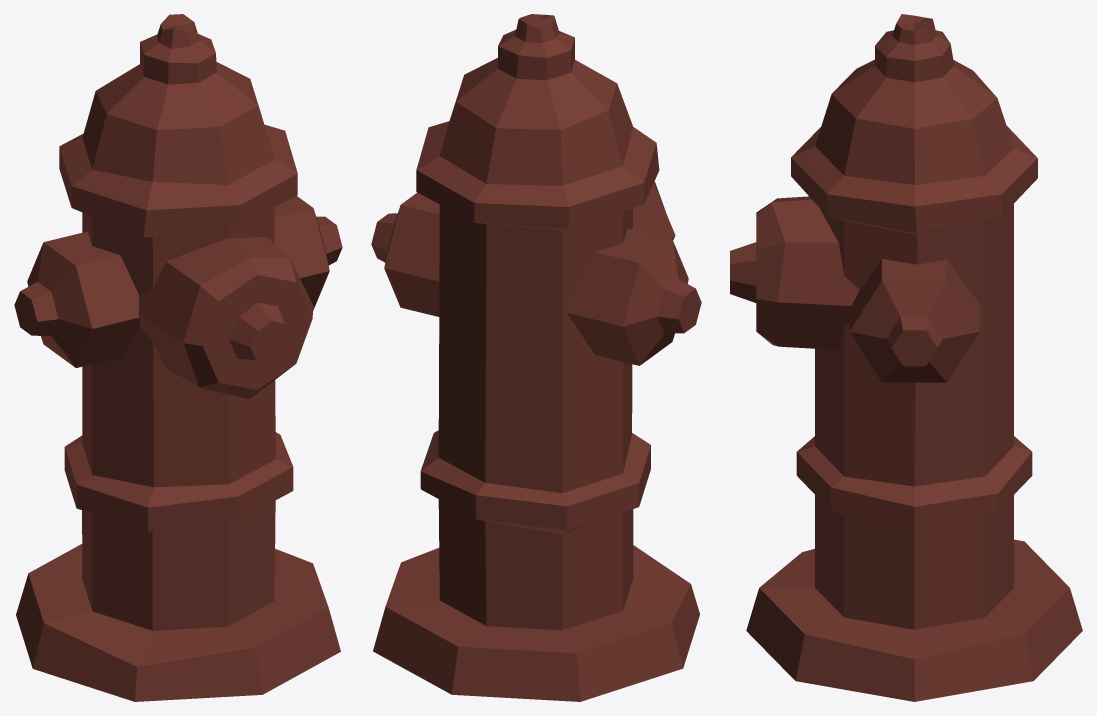
Rendered from Hydrant_01.fbx.
3 renders of one model, left to right at view 1: azimuth 30°, elevation 25°; view 2: azimuth 150°, elevation 25°; view 3: azimuth 270°, elevation 25°, orthographic.
Parts seen in each view (by area): view 1: Hydrant_01; view 2: Hydrant_01; view 3: Hydrant_01.
Boxes of the visible parts, x1,y1,x2,y2 form: Hydrant_01: (14,14,342,701); Hydrant_01: (371,14,701,701); Hydrant_01: (730,14,1082,701).
Bounding box in the file's own units: 0.4718 × 0.9033 × 0.4721.
